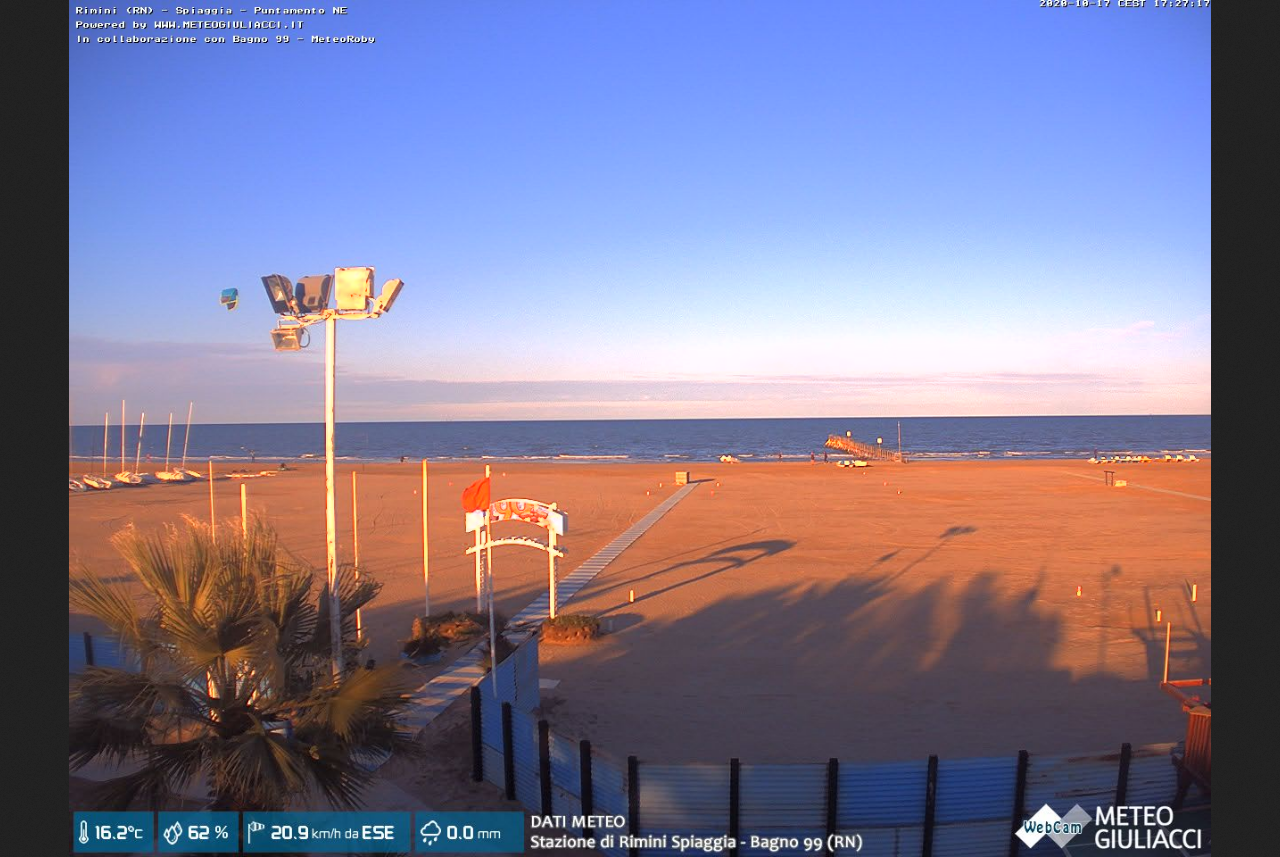yes: (458, 476, 490, 514)
